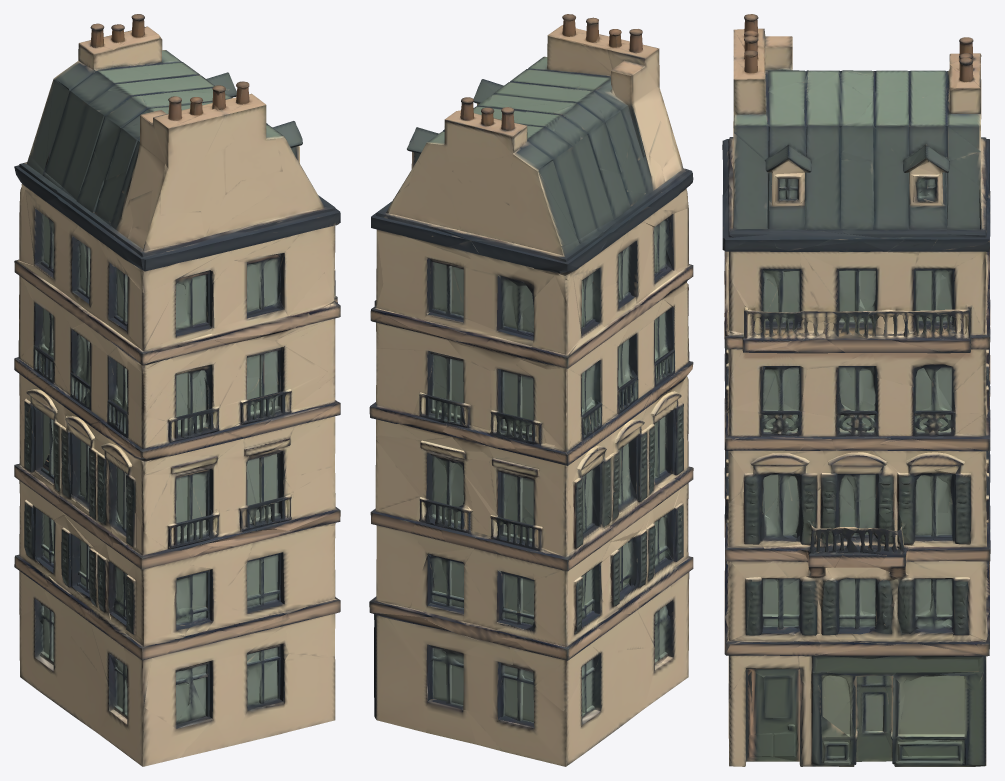
File: building4-optimized.glb
3 renders of one model, left to right at view 1: azimuth 30°, elevation 25°; view 2: azimuth 150°, elevation 25°; view 3: azimuth 270°, elevation 25°, orthographic. The views are drawn at different scales.
Visible parts, largest first — view 1: output_unwrapped; view 2: output_unwrapped; view 3: output_unwrapped.
Part boxes in pixels (x1,y1,x2,y2): output_unwrapped: [14, 14, 340, 766]; output_unwrapped: [369, 14, 693, 766]; output_unwrapped: [722, 14, 990, 766].
Size of the model in its own units: 0.6797 by 2 by 0.7191.
1 material, 1 textured.
